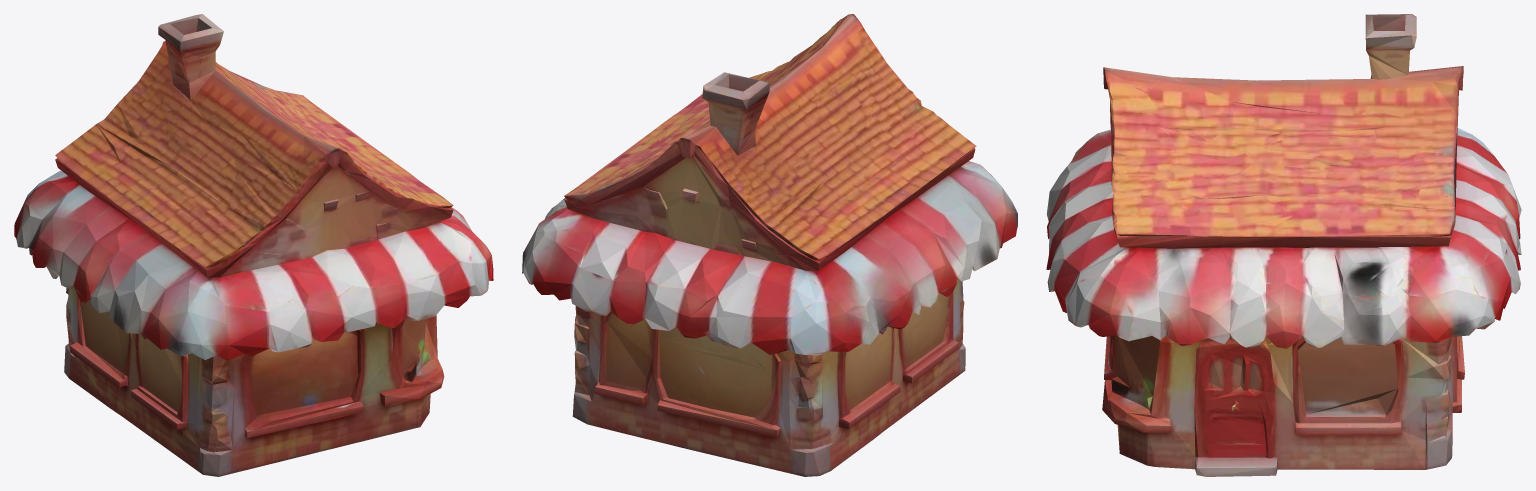
The model's file is b-shop.glb.
The picture shows the model from 3 angles, left to right: view 1: azimuth 30°, elevation 25°; view 2: azimuth 150°, elevation 25°; view 3: azimuth 270°, elevation 25°; orthographic projection. The views are drawn at different scales.
Parts seen in each view (by area): view 1: geometry_0; view 2: geometry_0; view 3: geometry_0.
Part boxes in pixels (x1,y1,x2,y2): geometry_0: (14, 14, 493, 476); geometry_0: (522, 14, 1017, 476); geometry_0: (1046, 14, 1521, 476).
Bounding box in the file's own units: 0.9356 × 0.8642 × 0.9959.
Materials: 1 (1 with a texture image).
